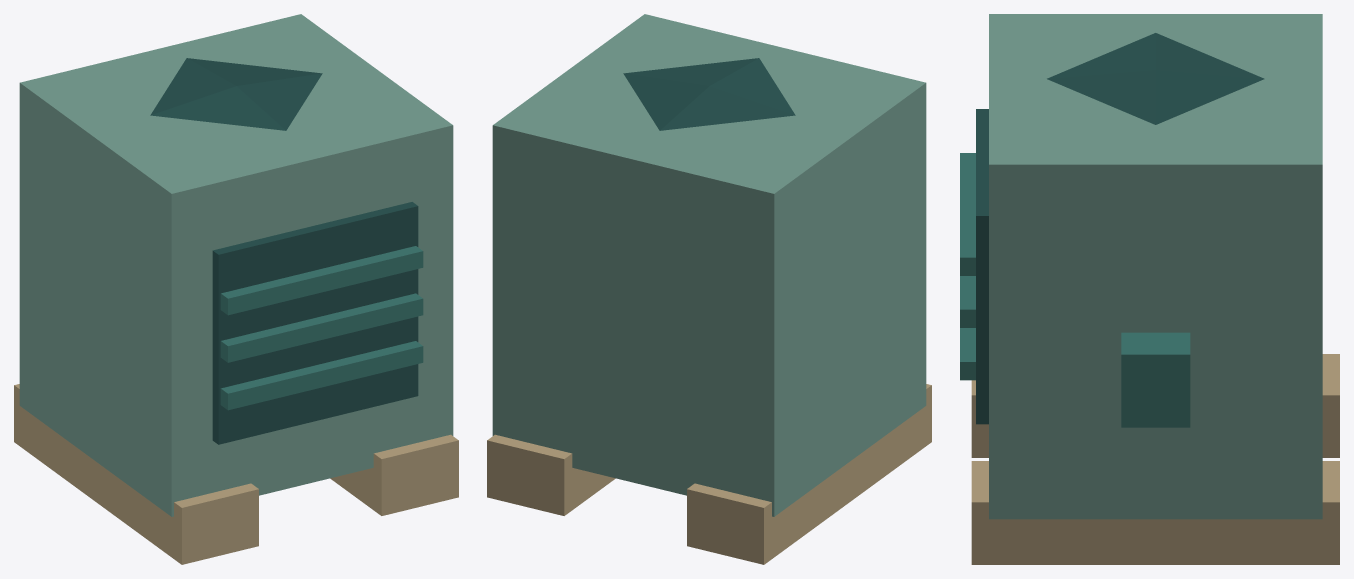
File: module-cooling.gltf
3 renders of one model, left to right at view 1: azimuth 30°, elevation 25°; view 2: azimuth 150°, elevation 25°; view 3: azimuth 270°, elevation 25°, orthographic. The views are drawn at different scales.
Visible parts, largest first — view 1: module-cooling; view 2: module-cooling; view 3: module-cooling.
Boxes of the visible parts, x1=… form: module-cooling: x1=14, y1=14, x2=458, y2=564; module-cooling: x1=487, y1=14, x2=931, y2=564; module-cooling: x1=960, y1=14, x2=1339, y2=564.
Bounding box in the file's own units: 0.715 × 0.8075 × 0.66.
